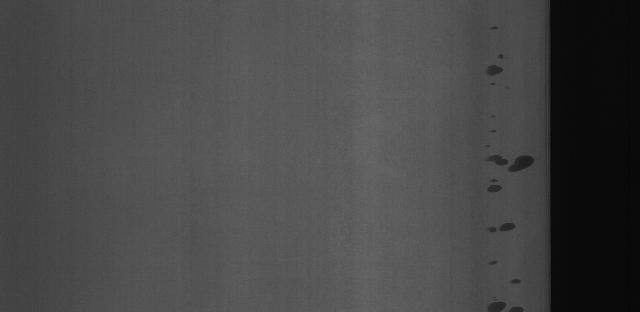oil_spot: (484, 23, 514, 98), (484, 144, 542, 177), (483, 219, 518, 245), (480, 290, 519, 312), (479, 179, 513, 195), (483, 261, 508, 275)
